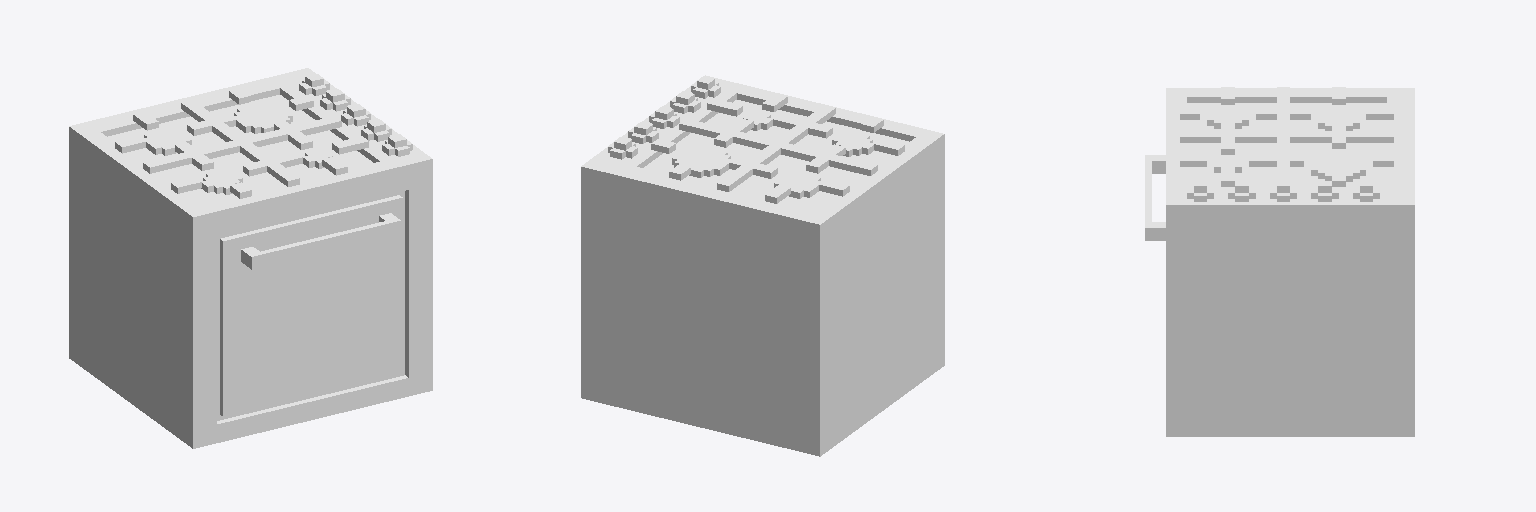
Rendered from piec.obj.
3 views of the same model, side by side, from view 1: azimuth 30°, elevation 25°; view 2: azimuth 150°, elevation 25°; view 3: azimuth 270°, elevation 25° (orthographic).
Visible parts, largest first — view 1: piec; view 2: piec; view 3: piec.
Boxes of the visible parts, x1,y1,x2,y2 form: piec: [69, 68, 432, 448]; piec: [581, 75, 944, 456]; piec: [1145, 87, 1414, 436].
Bounding box in the file's own units: 40 × 39 × 39.